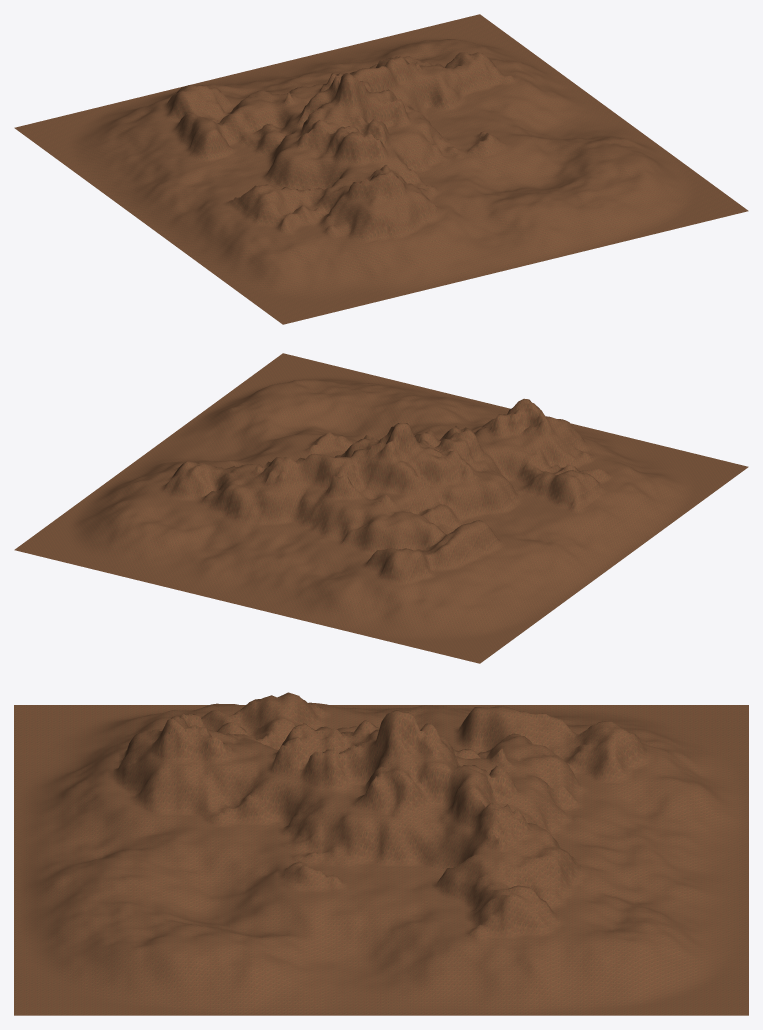
Rendered from landscape.obj.
3 renders of one model, top to bottom at view 1: azimuth 30°, elevation 25°; view 2: azimuth 150°, elevation 25°; view 3: azimuth 270°, elevation 25°, orthographic. The views are drawn at different scales.
Parts seen in each view (by area): view 1: Landscape; view 2: Landscape; view 3: Landscape.
Part boxes in pixels (left/top/right/bottom): Landscape: left=14, top=14, right=748, bottom=324; Landscape: left=14, top=353, right=748, bottom=663; Landscape: left=14, top=692, right=748, bottom=1015.
Size of the model in its own units: 1 by 0.1963 by 1.
